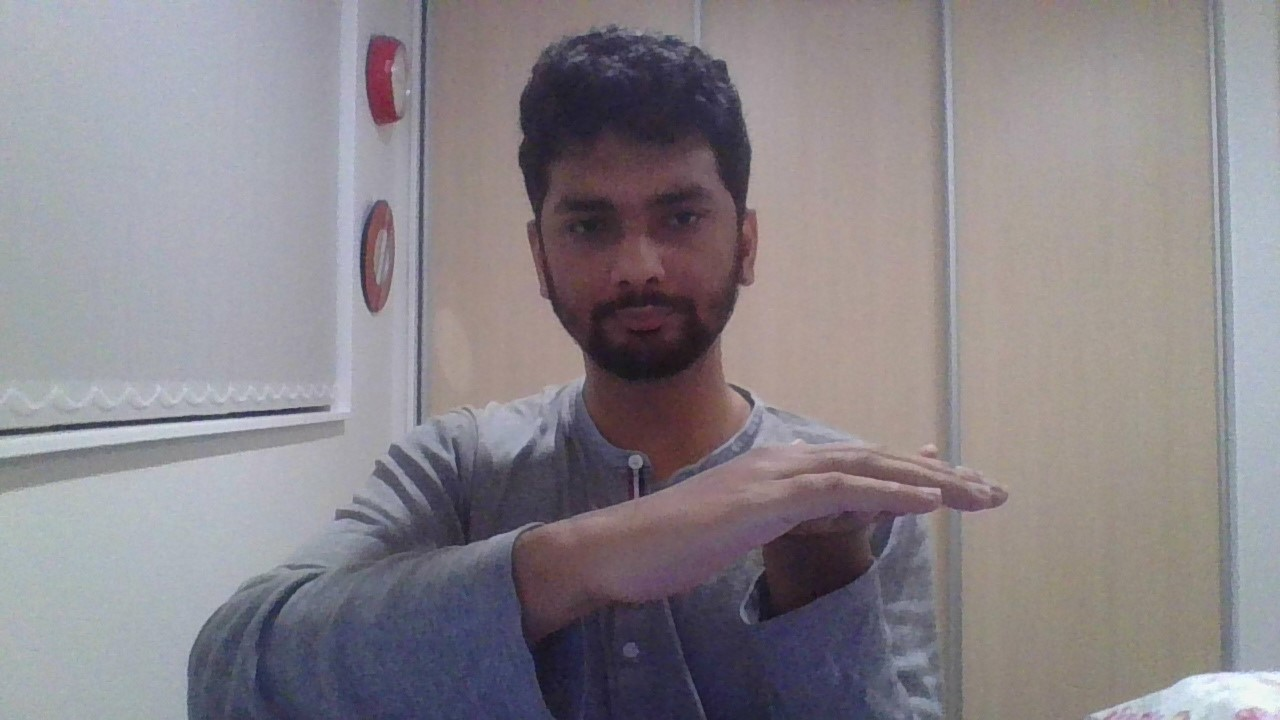clear: (570, 439, 1009, 603)
